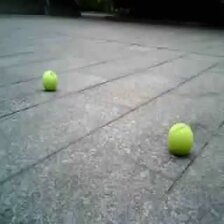tennis: (168, 124, 193, 156), (41, 71, 57, 90)
